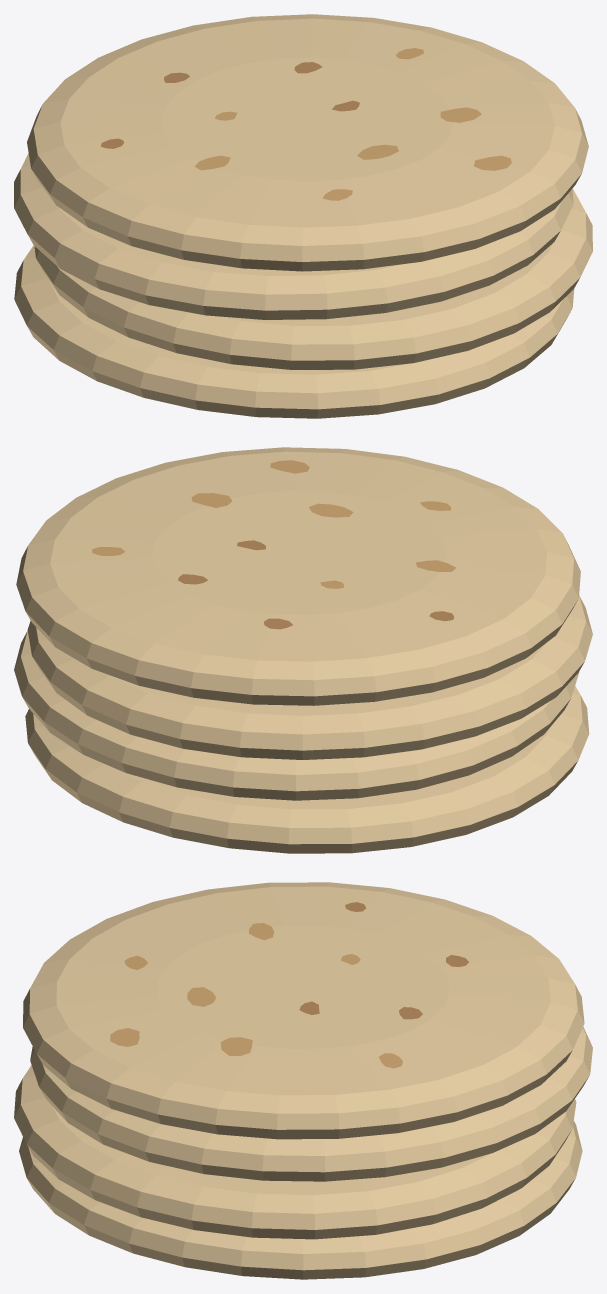
The model's file is pita-stack.glb.
3 views of the same model, one above another, from view 1: azimuth 30°, elevation 25°; view 2: azimuth 150°, elevation 25°; view 3: azimuth 270°, elevation 25° (orthographic).
Visible parts, largest first — view 1: pita-stack; view 2: pita-stack; view 3: pita-stack.
Boxes of the visible parts, <box> form: pita-stack: <box>14,14,592,418</box>; pita-stack: <box>14,447,592,853</box>; pita-stack: <box>14,882,592,1279</box>.
Size of the model in its own units: 0.5198 by 0.1843 by 0.5136.
